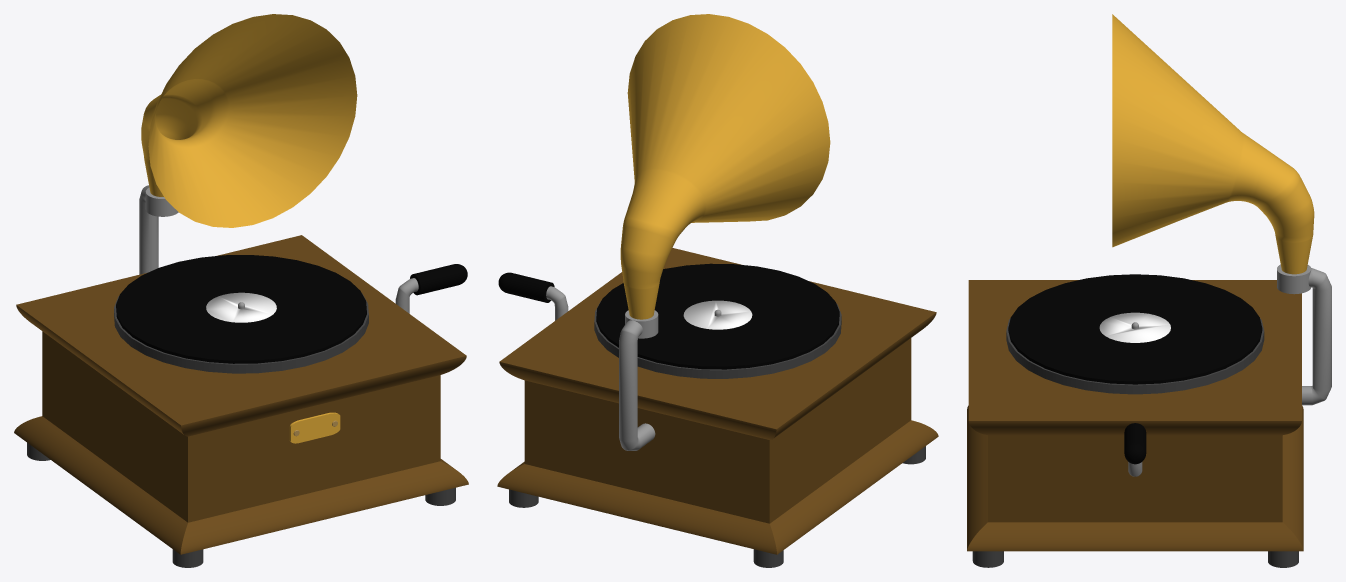
Rendered from Gramophone.fbx.
The picture shows the model from 3 angles, left to right: view 1: azimuth 30°, elevation 25°; view 2: azimuth 150°, elevation 25°; view 3: azimuth 270°, elevation 25°; orthographic projection. The views are drawn at different scales.
Parts seen in each view (by area): view 1: Manivelle; view 2: Manivelle; view 3: Manivelle.
Boxes of the visible parts, box(x1,y1,x2,y2) form: Manivelle: box(14, 14, 468, 567); Manivelle: box(497, 14, 938, 567); Manivelle: box(967, 14, 1331, 567).
Bounding box in the file's own units: 674 × 819 × 572.
